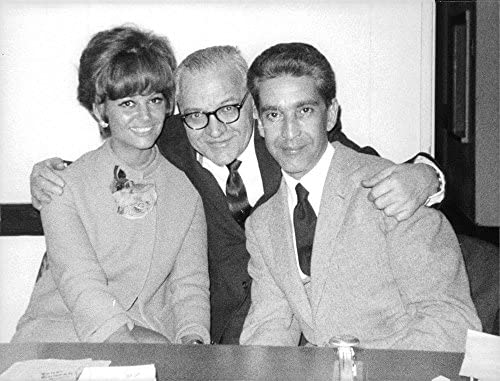person: (229, 44, 434, 285)
